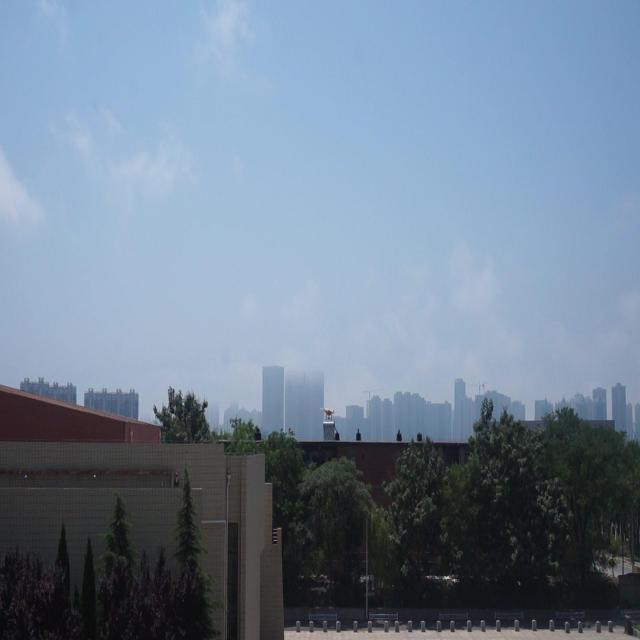UAV: (319, 408, 338, 421)
